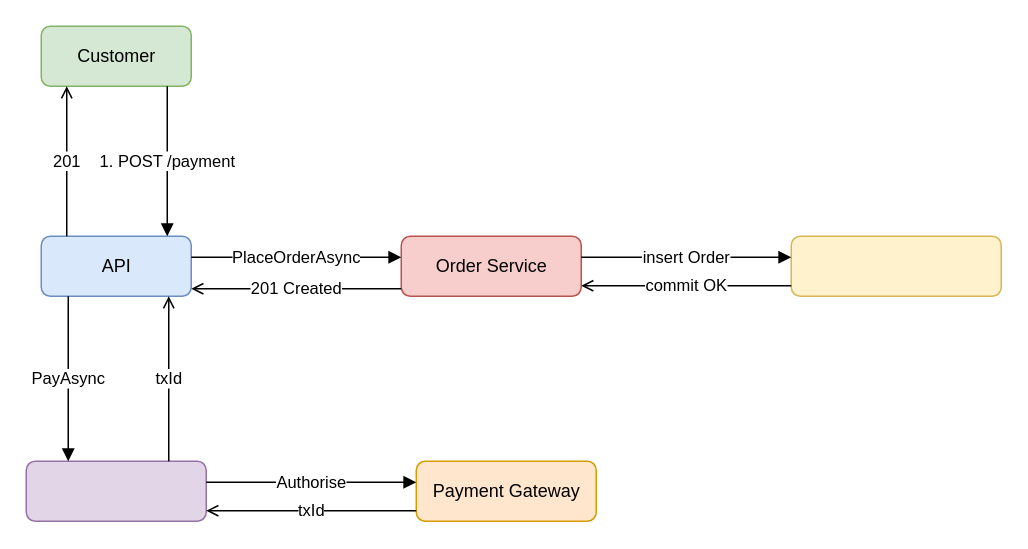
Image size: 1028x549. Some labels were removed from this diagram. Each missing label, with the box of its shape:
Payment Service: (25, 460, 206, 521)
SQL DB: (790, 235, 1001, 296)
